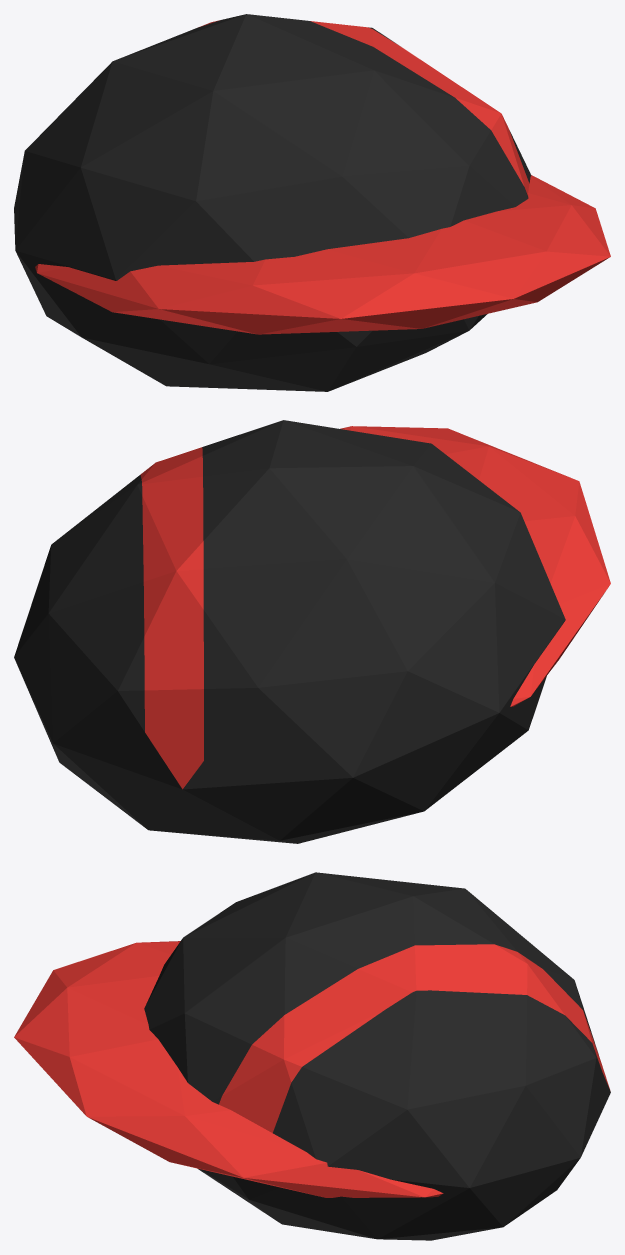
File: BaseballCap.fbx
The picture shows the model from 3 angles, top to bottom: view 1: azimuth 30°, elevation 25°; view 2: azimuth 150°, elevation 25°; view 3: azimuth 270°, elevation 25°; orthographic projection. The views are drawn at different scales.
Parts seen in each view (by area): view 1: Icosphere.001; view 2: Icosphere.001; view 3: Icosphere.001.
Boxes of the visible parts, x1,y1,x2,y2 form: Icosphere.001: (14,14,610,391); Icosphere.001: (14,420,610,843); Icosphere.001: (14,872,610,1240).
Size of the model in its own units: 193 by 128 by 226.
